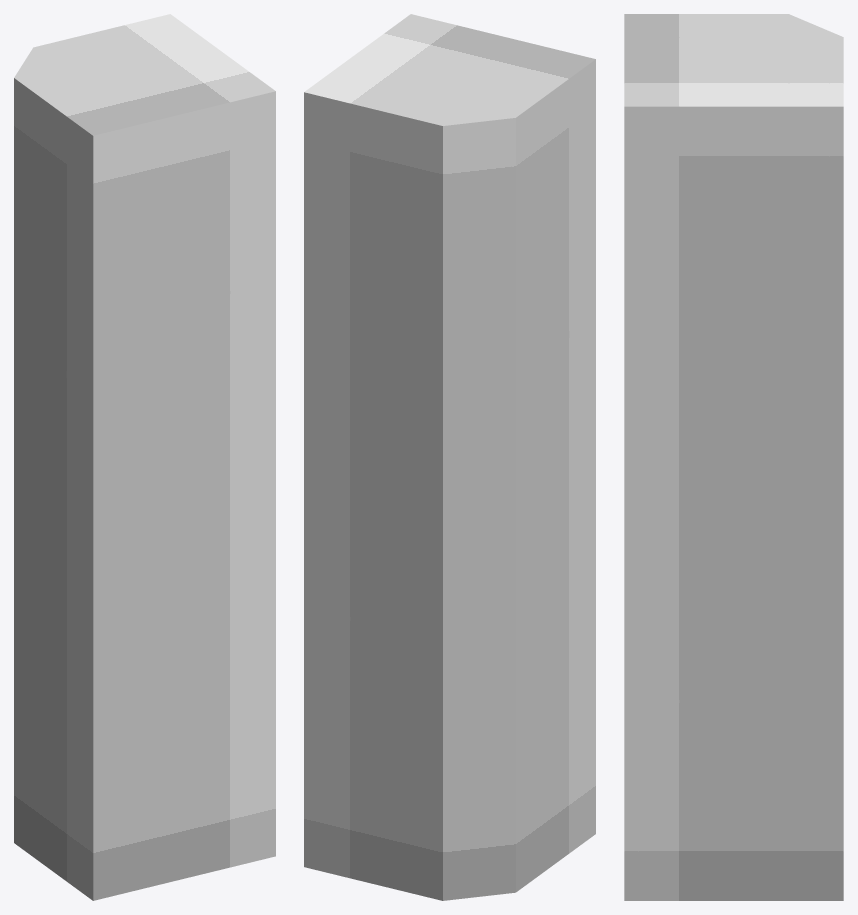
The model's file is corner_vertical_outside.obj.
The picture shows the model from 3 angles, left to right: view 1: azimuth 30°, elevation 25°; view 2: azimuth 150°, elevation 25°; view 3: azimuth 270°, elevation 25°; orthographic projection. The views are drawn at different scales.
Bounding box in the file's own units: 0.25 × 1 × 0.25.
